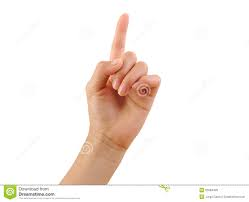hand: (78, 4, 172, 160)
